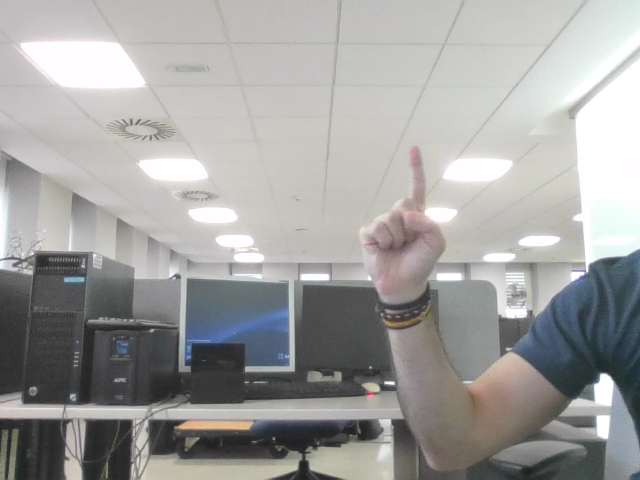1Dedo: (373, 157, 434, 265)
